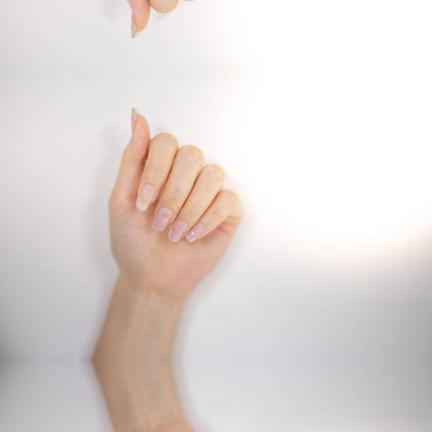Nail: (136, 184, 156, 211), (152, 207, 172, 231), (169, 220, 187, 241), (185, 223, 204, 241), (131, 106, 136, 131), (131, 13, 136, 38)
